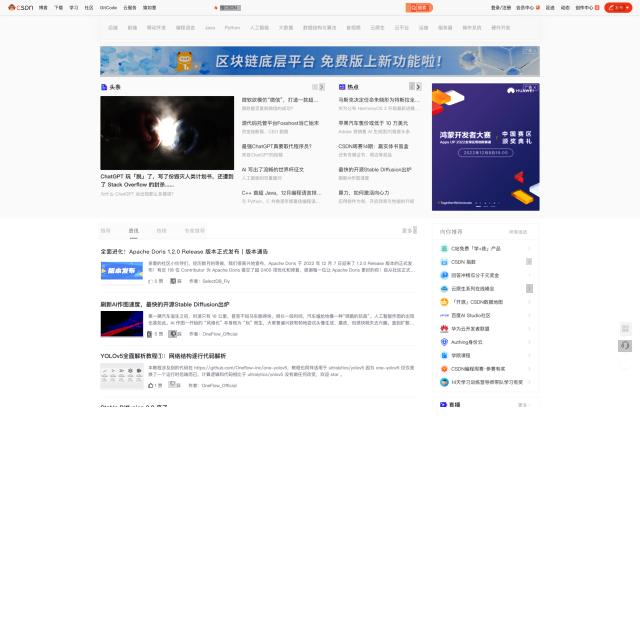CheckBox: (405, 2, 434, 13), (604, 2, 633, 13)
CheckedTextView: (209, 2, 435, 14)
ImageView: (432, 82, 540, 211), (100, 46, 540, 77)
bag: (0, 0, 640, 16)
breadcrumbs: (99, 246, 273, 256), (440, 227, 464, 237)
carousel: (620, 322, 632, 336), (618, 340, 632, 352), (620, 356, 633, 367), (168, 330, 177, 338), (526, 284, 533, 293), (526, 270, 532, 280), (168, 382, 176, 389), (416, 82, 422, 91), (319, 83, 325, 91), (409, 82, 415, 90), (213, 4, 219, 11), (148, 331, 154, 338), (148, 382, 154, 389), (526, 258, 532, 265), (411, 4, 416, 12), (170, 278, 176, 284), (312, 84, 318, 90), (527, 228, 532, 235), (526, 245, 530, 253), (149, 278, 154, 284), (413, 227, 417, 234), (528, 402, 532, 408)
copy: (100, 96, 234, 170), (100, 364, 144, 392), (100, 260, 146, 286), (100, 312, 144, 339)
data feed: (417, 5, 429, 11), (614, 5, 625, 11)
date picker: (6, 3, 35, 12)
decoration: (100, 18, 540, 42), (37, 3, 160, 12), (490, 3, 600, 12)
footer: (220, 5, 241, 11)
icon: (98, 222, 207, 240)
